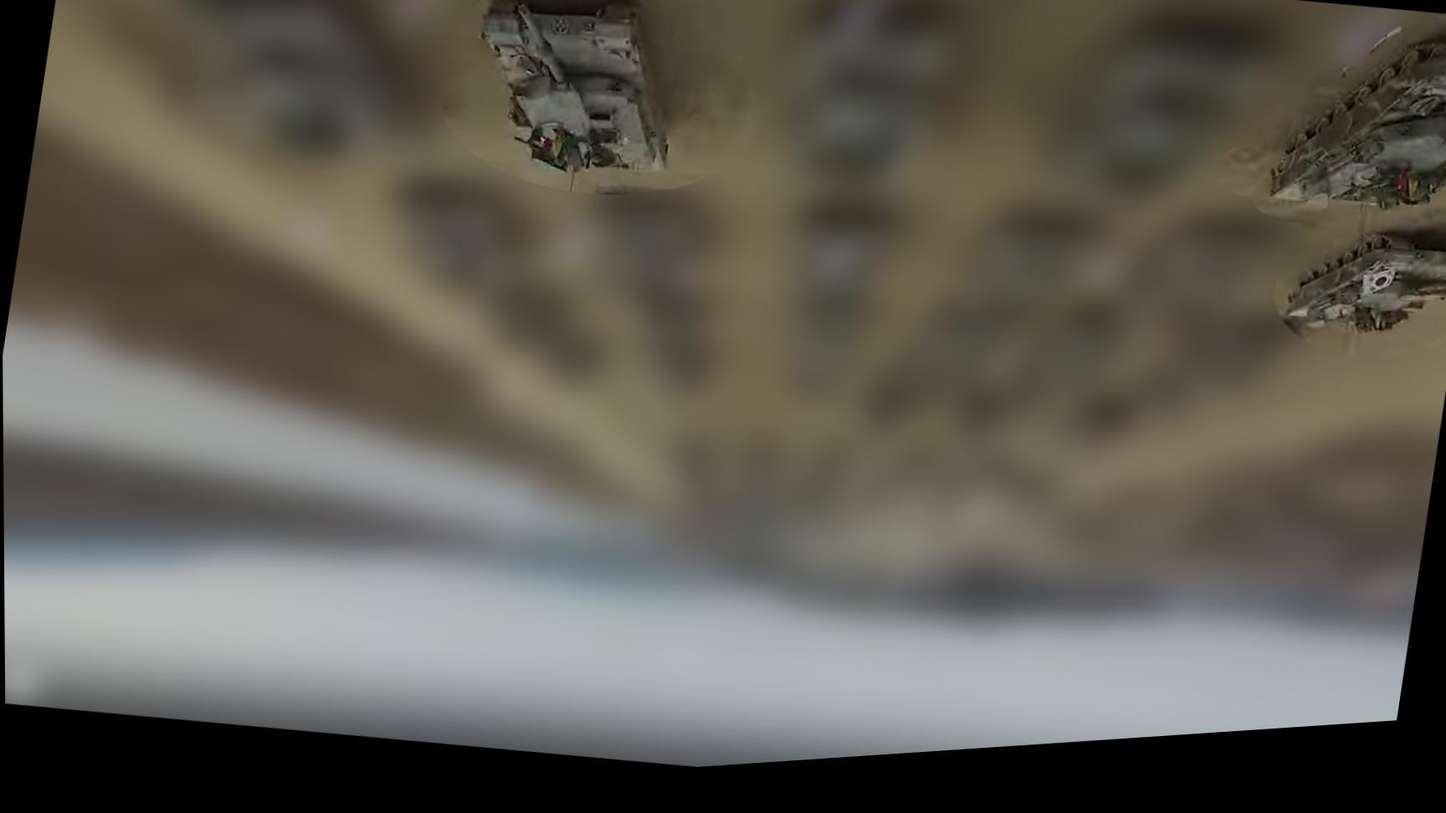tank: (451, 0, 695, 209), (1257, 5, 1446, 234), (1271, 206, 1446, 360)
